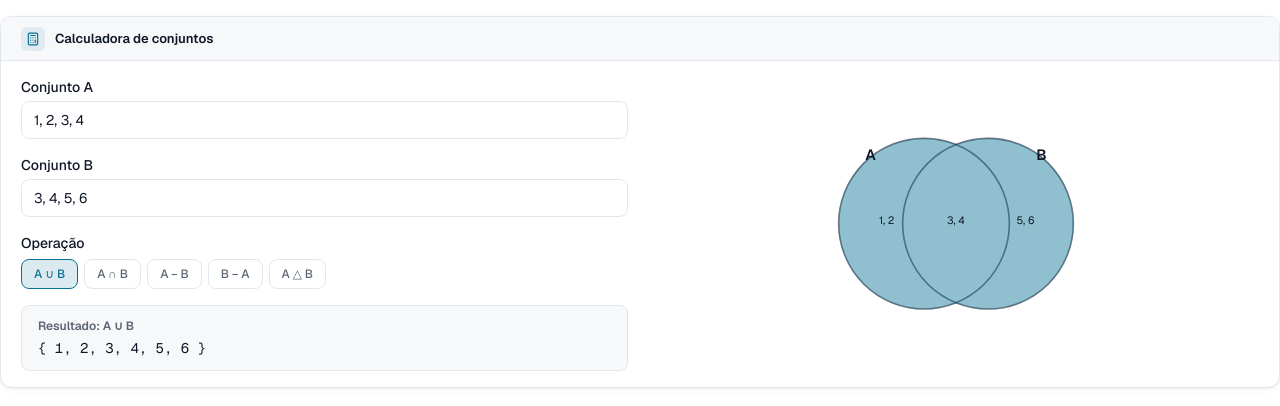
Test: SetCalculator › recomputes as the sets are edited
Replace the text in the field labelled "Conjunto A" with "x, y" at (324, 120), box 21,101 -> 628,139
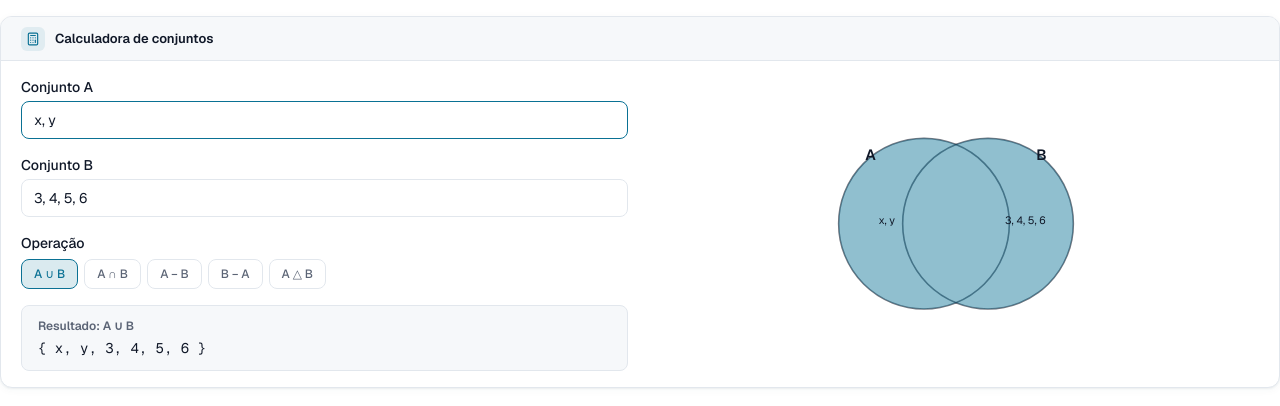
Replace the text in the field labelled "Conjunto B" with "y, z" at (324, 198), box 21,179 -> 628,217
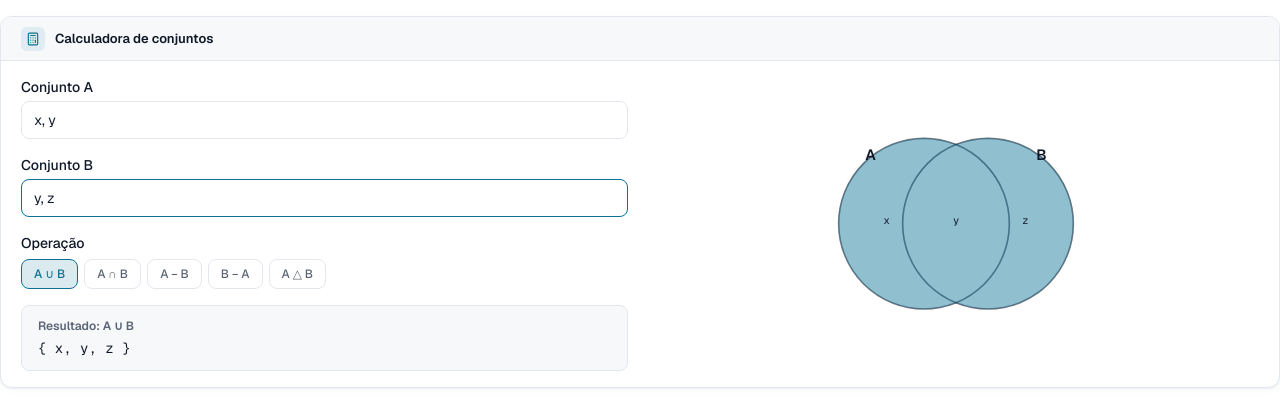
Expected: the text "{ x, y, z }" is shown, 38,339 -> 130,357
